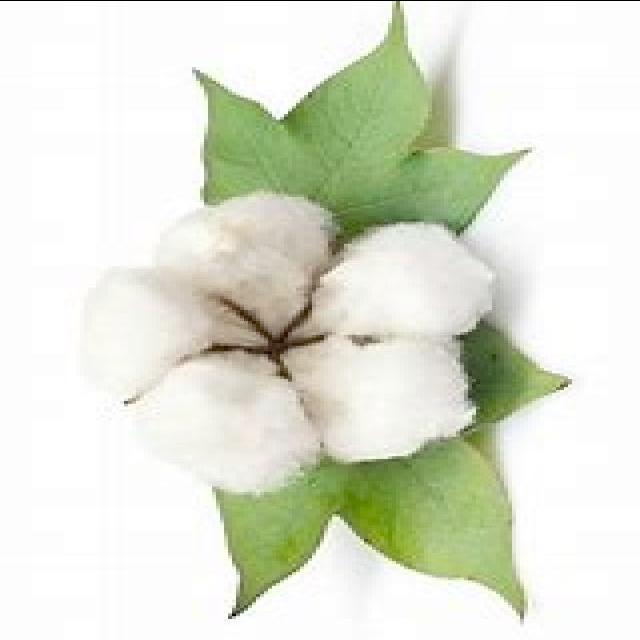Matured Cotton Boll: (69, 190, 499, 488)
